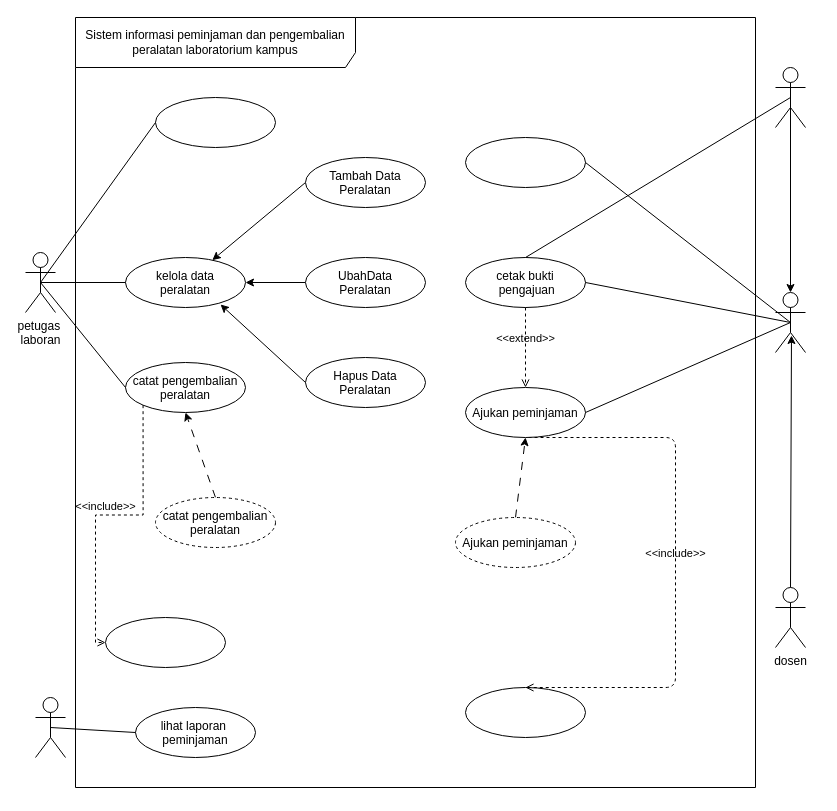
This 837x811 diagram has some shape labels left out. The shapes that lost their labels are listed below. From the top down, each one's centre as x and y in pixels, then its label:
At (x=790, y=97): "Mahasiswa".
At (x=215, y=122): "Proses keputusan peminjaman".
At (x=525, y=162): "lihat ketersediaan peralatan".
At (x=790, y=322): "Peminjam".
At (x=165, y=642): "periksa kondisi peralatan".
At (x=50, y=727): "Kepala laboran".
At (x=525, y=712): "periksa ketersediaan".
